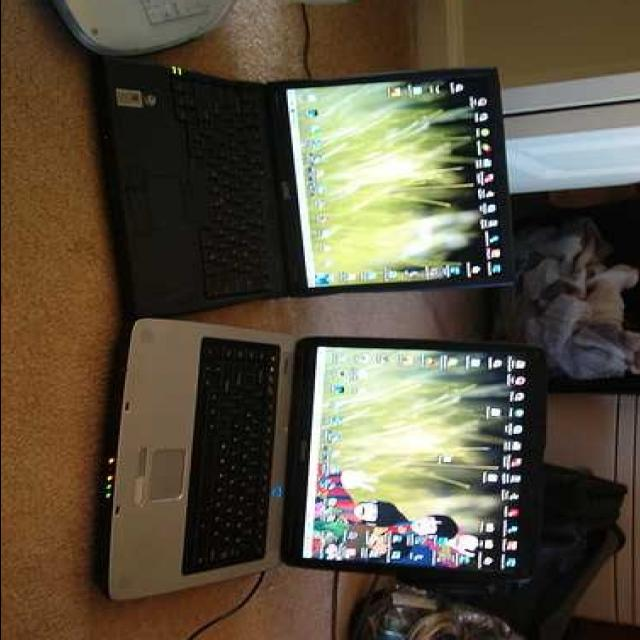laptop: (125, 322, 562, 586), (93, 60, 518, 322)
